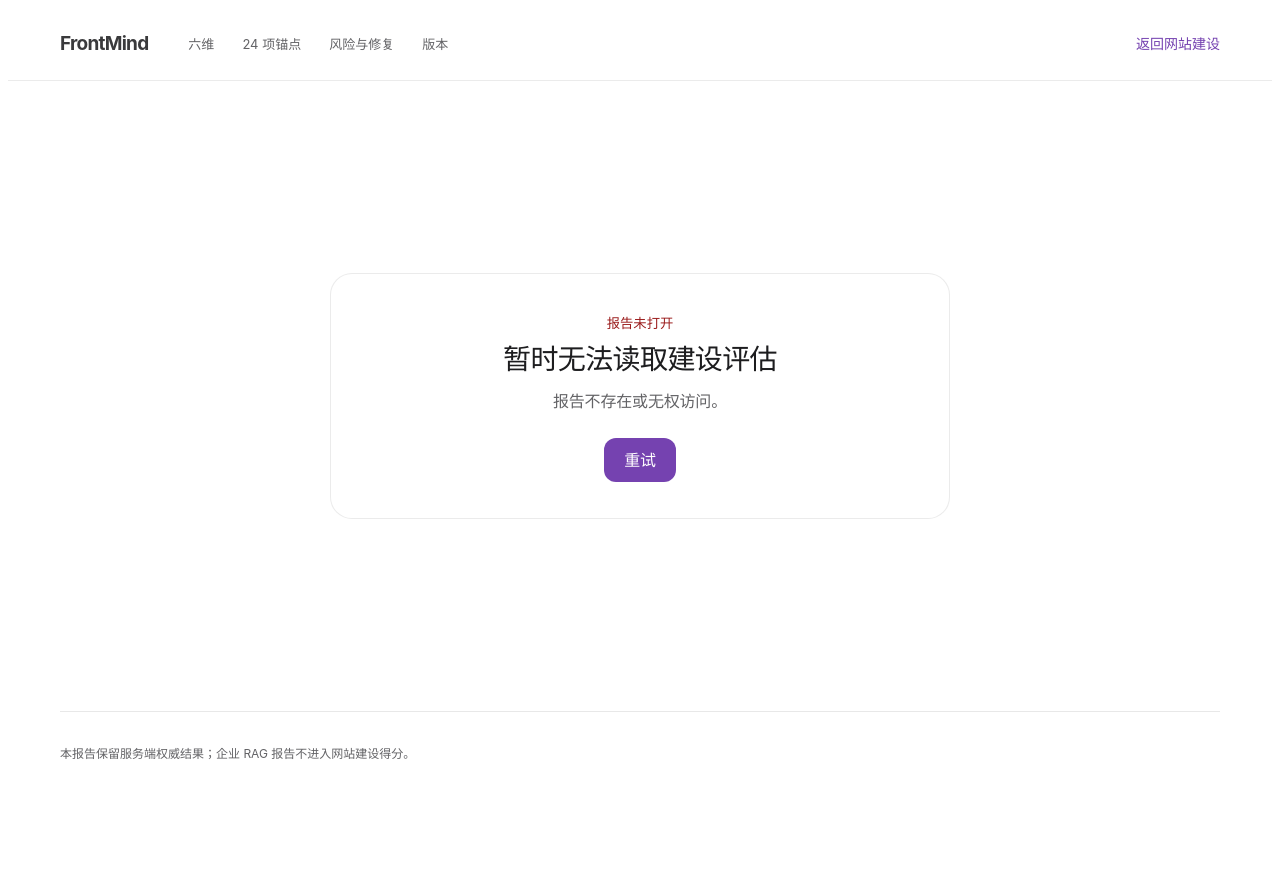
it: WebsiteEvaluationReportPage › shows the server error and retries the same read without starting an evaluation
The image size is (1280, 883).
Expected: the message shows "无权访问", 553,391 -> 727,411
Click the button "重试" at (640, 460), box 604,438 -> 676,482
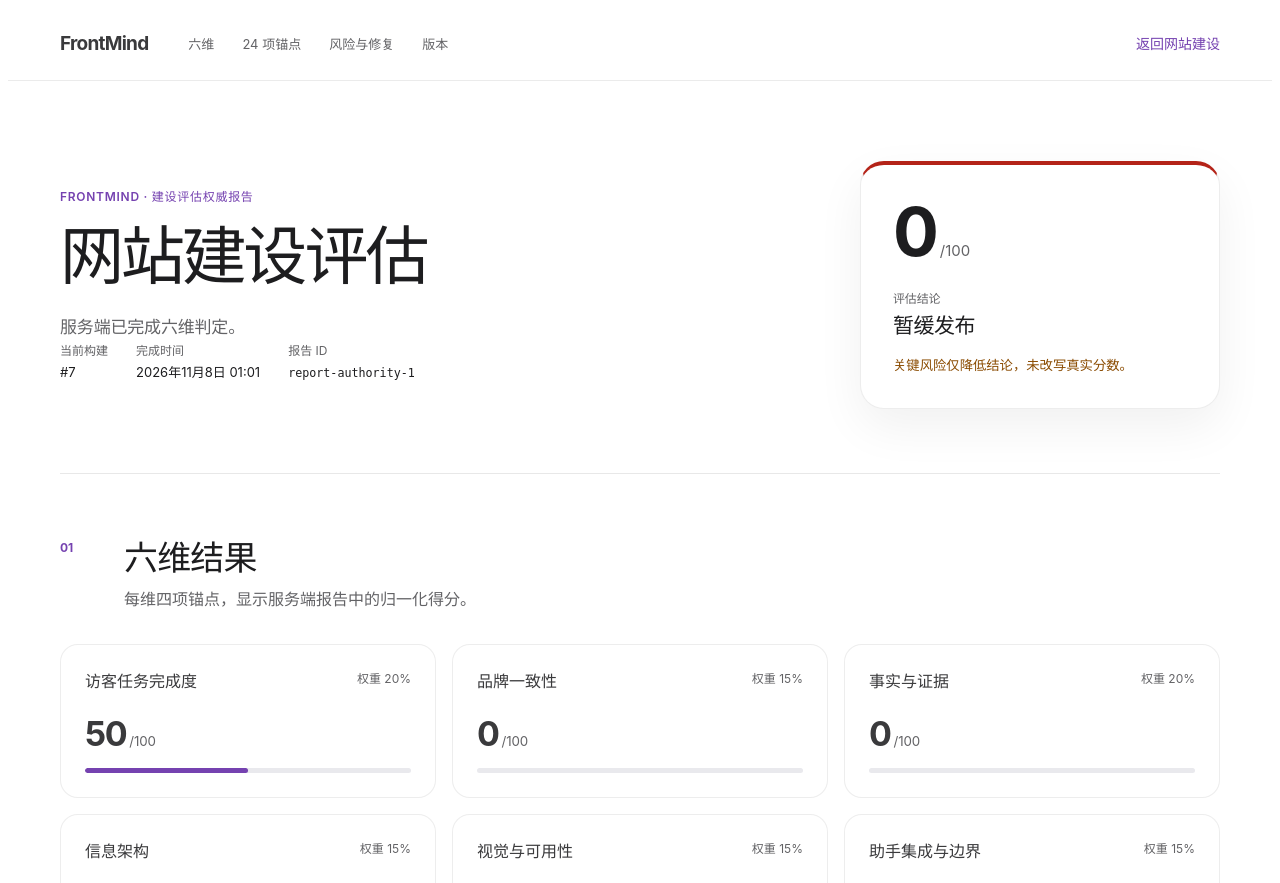
Now the text with test id "website-report-score" in the row of "网站建设评估" reads "0", box 893,190 -> 935,272
